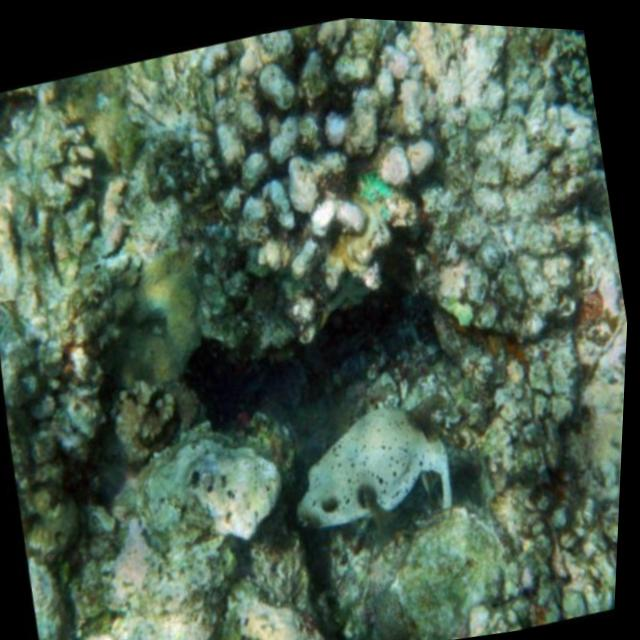Dead Coral: (101, 5, 483, 382), (0, 76, 221, 556), (455, 454, 625, 636), (535, 22, 604, 140)
